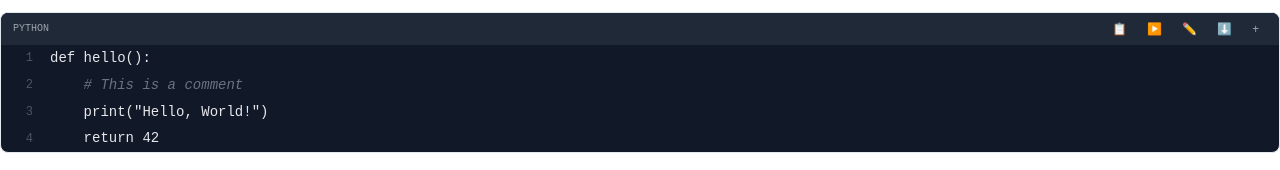
Test case: CodeBlock › shows checkmark after copy
Click the button titled "Copy" at (1120, 29), box [1104,19,1135,39]
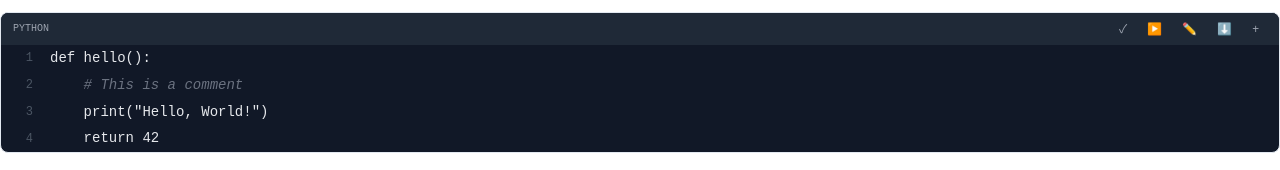
Now the button "✓" is shown, box [1111,19,1135,39]
